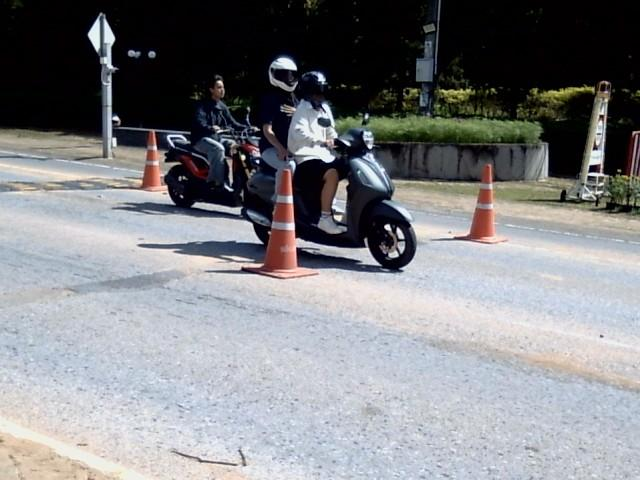helmet: (264, 55, 301, 92), (300, 70, 328, 107)
motor: (294, 128, 416, 268), (164, 119, 265, 207), (241, 164, 275, 245)
no-helmet: (202, 71, 230, 99)
person: (288, 71, 346, 234), (191, 74, 243, 189), (259, 56, 298, 190)
